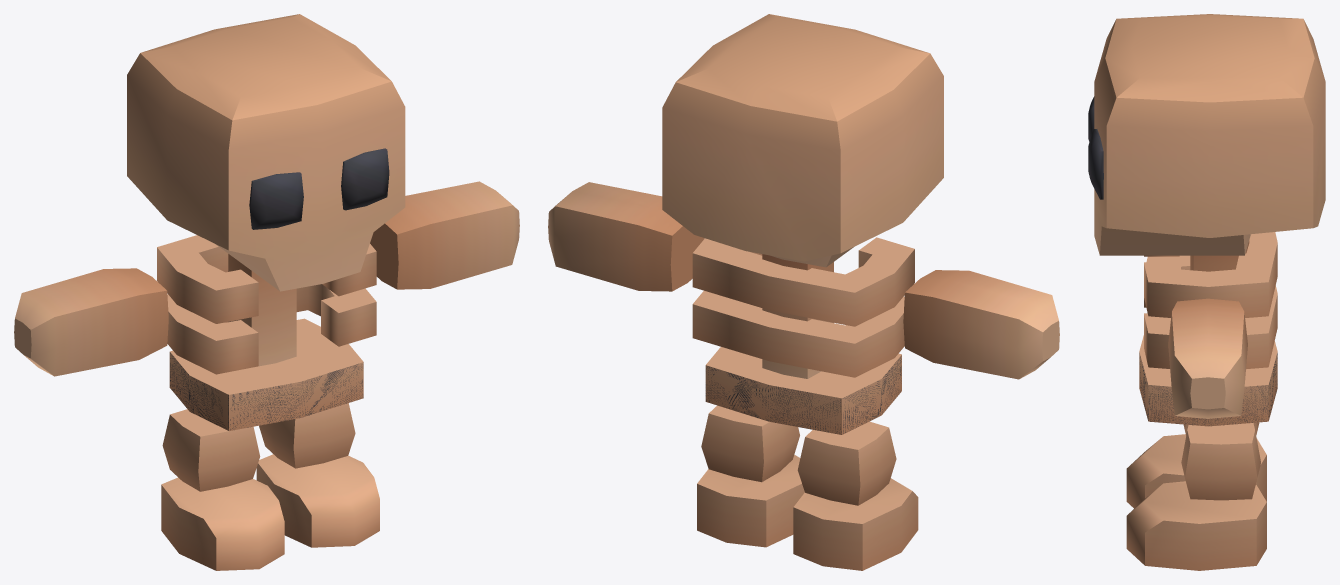
File: grave.character_skeleton.glb
The picture shows the model from 3 angles, left to right: view 1: azimuth 30°, elevation 25°; view 2: azimuth 150°, elevation 25°; view 3: azimuth 270°, elevation 25°; orthographic projection.
Parts seen in each view (by area): view 1: head, torso, leg-right, arm-right, leg-left, arm-left; view 2: head, torso, leg-right, arm-right, arm-left, leg-left; view 3: head, leg-left, torso, arm-left, leg-right.
Part boxes in pixels (x1=…): head: x1=127, y1=14, x2=405, y2=291; torso: x1=157, y1=235, x2=376, y2=430; leg-right: x1=161, y1=409, x2=284, y2=570; arm-right: x1=14, y1=268, x2=168, y2=376; leg-left: x1=256, y1=403, x2=379, y2=547; arm-left: x1=370, y1=181, x2=519, y2=289; head: x1=662, y1=14, x2=943, y2=267; torso: x1=692, y1=237, x2=914, y2=434; leg-right: x1=793, y1=421, x2=918, y2=570; arm-right: x1=903, y1=270, x2=1059, y2=379; arm-left: x1=548, y1=182, x2=704, y2=291; leg-left: x1=697, y1=405, x2=804, y2=547; head: x1=1088, y1=14, x2=1325, y2=255; leg-left: x1=1126, y1=423, x2=1266, y2=570; torso: x1=1139, y1=232, x2=1277, y2=426; arm-left: x1=1168, y1=298, x2=1247, y2=418; leg-right: x1=1126, y1=422, x2=1266, y2=508.
Size of the model in its own units: 1.82 by 1.67 by 0.754.
Materials: 1 (1 with a texture image).
